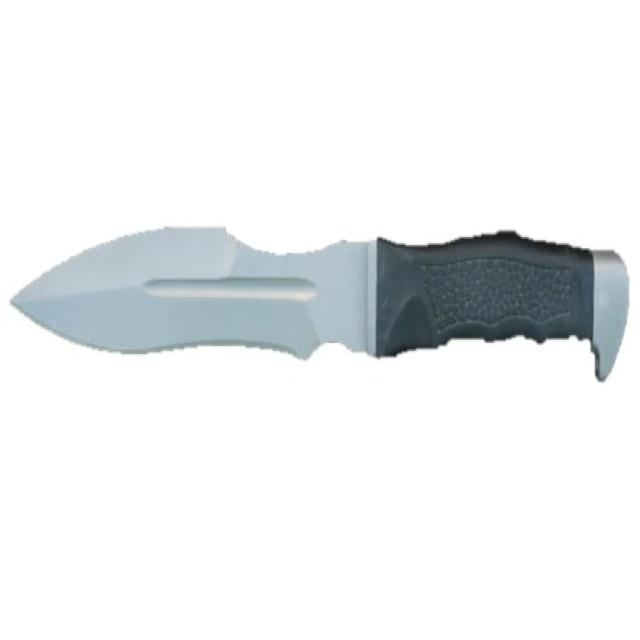knife: (1, 195, 639, 421)
